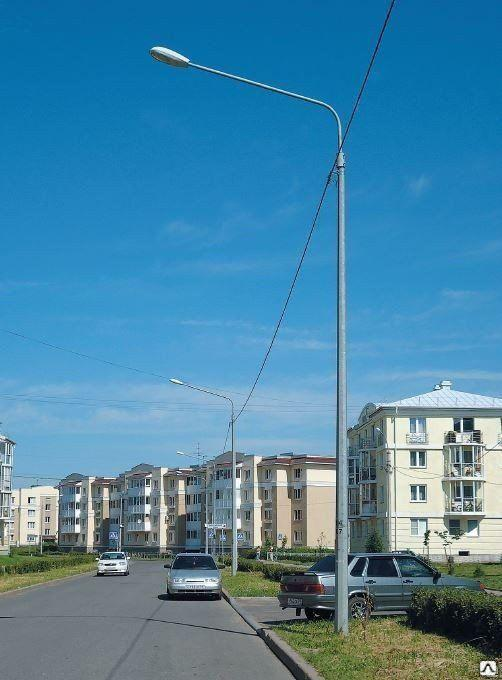Animal: (160, 34, 501, 680), (142, 359, 285, 573)
